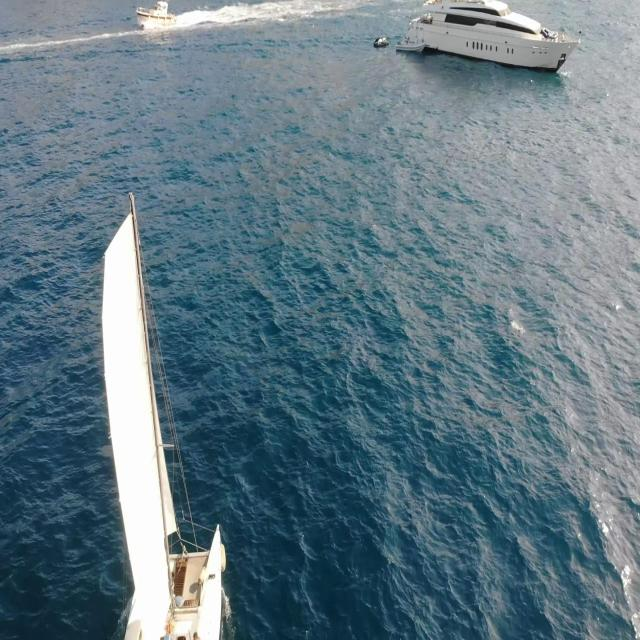boat: (407, 2, 579, 74), (138, 0, 178, 32), (396, 30, 424, 56), (374, 32, 388, 52)
